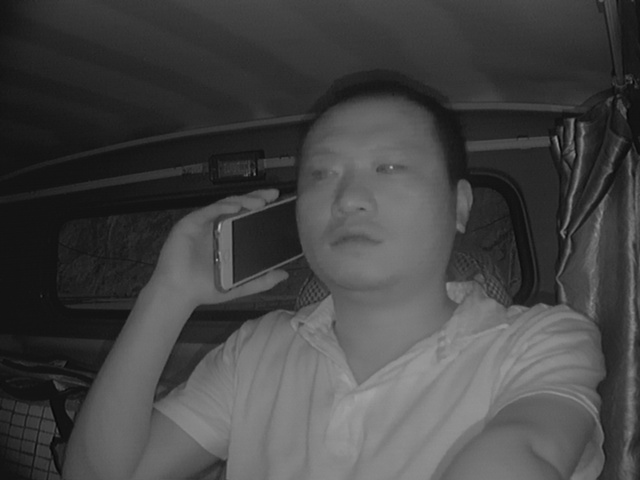hand: (163, 192, 286, 304)
